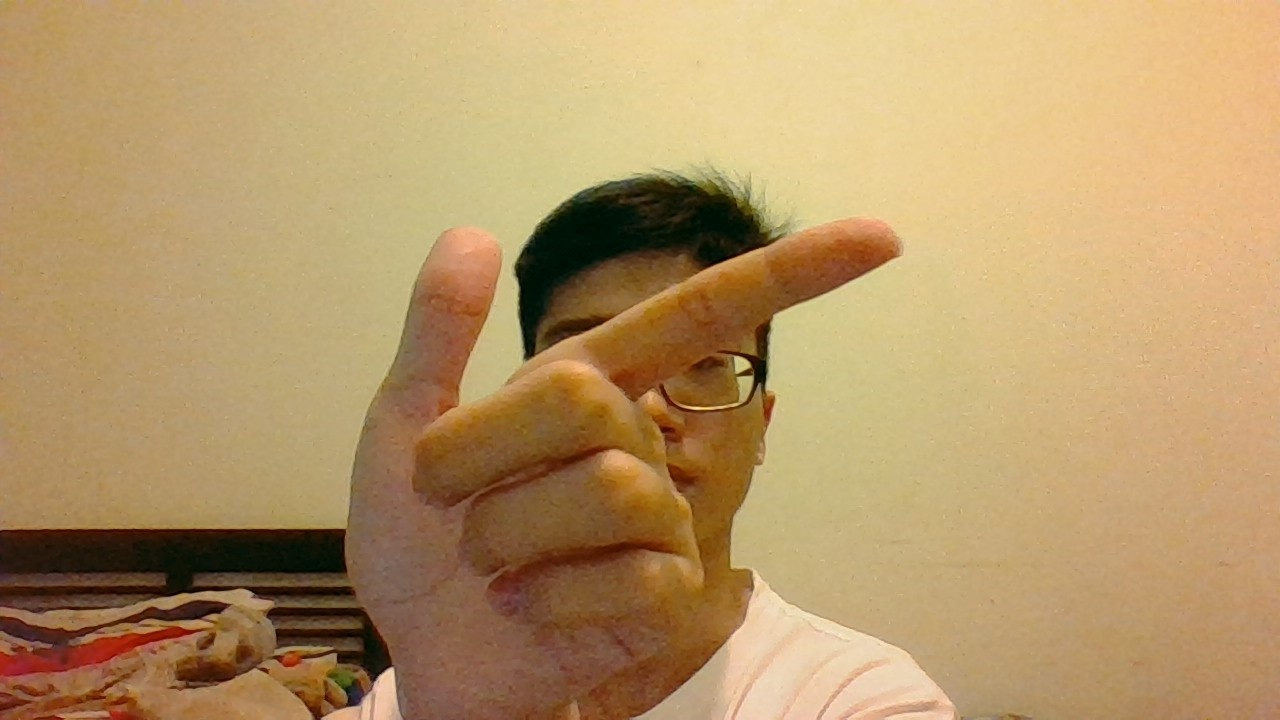Yes: (339, 213, 907, 693)
